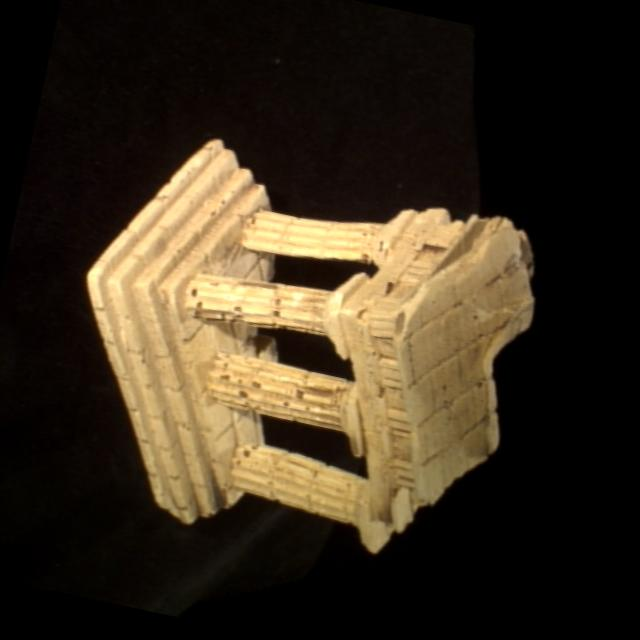Instance-Segmentation: (87, 141, 532, 552)
